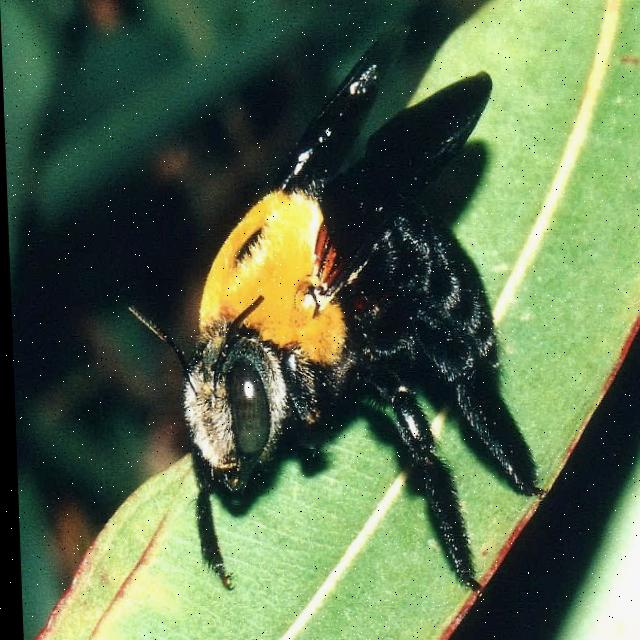Xylocopa: (111, 14, 555, 607)
